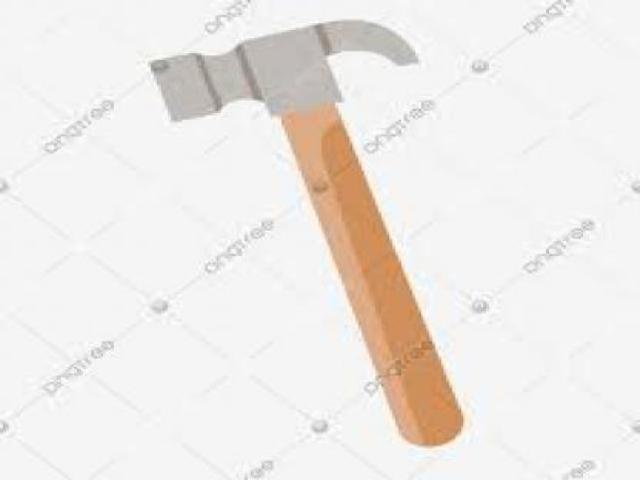Hammer: (151, 20, 462, 444)
